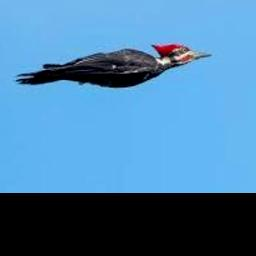Woodpecker: (14, 42, 210, 88)
